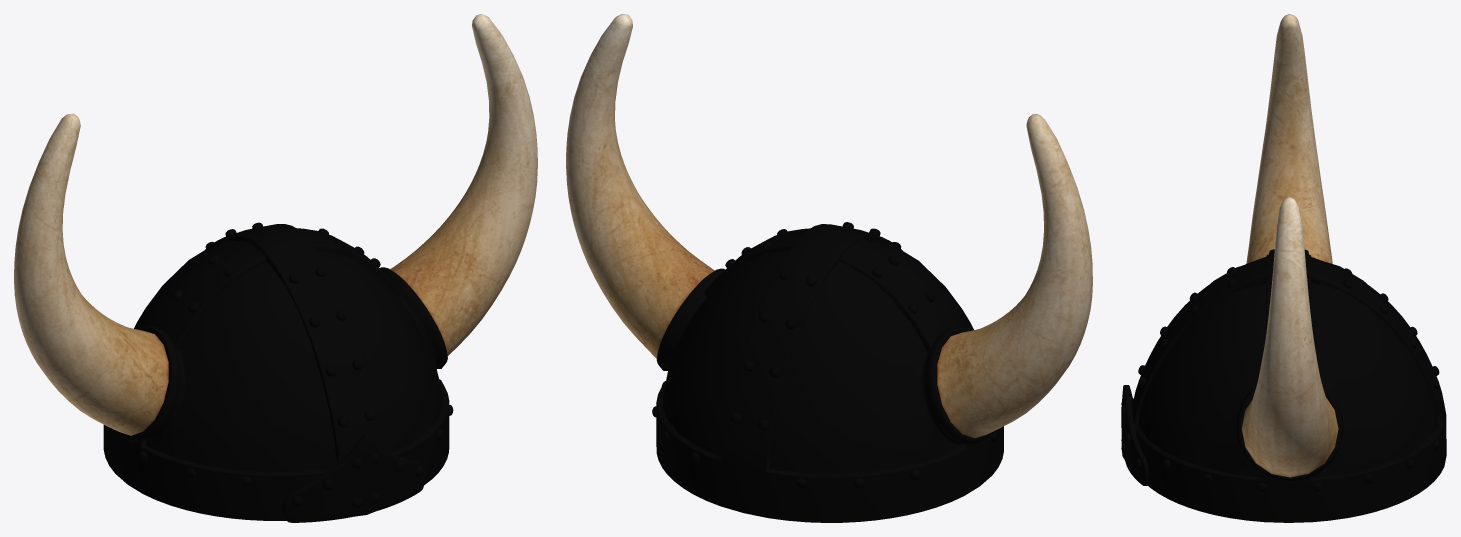
The picture shows the model from 3 angles, left to right: view 1: azimuth 30°, elevation 25°; view 2: azimuth 150°, elevation 25°; view 3: azimuth 270°, elevation 25°; orthographic projection. The views are drawn at different scales.
Visible parts, largest first — view 1: viking_helmet.1; view 2: viking_helmet.1; view 3: viking_helmet.1.
Part boxes in pixels (box(x1,y1,x2,y2)): viking_helmet.1: box(14, 14, 537, 522); viking_helmet.1: box(566, 14, 1092, 522); viking_helmet.1: box(1121, 14, 1446, 522).
Bounding box in the file's own units: 0.1783 × 0.1267 × 0.1064.
1 material, 1 textured.
